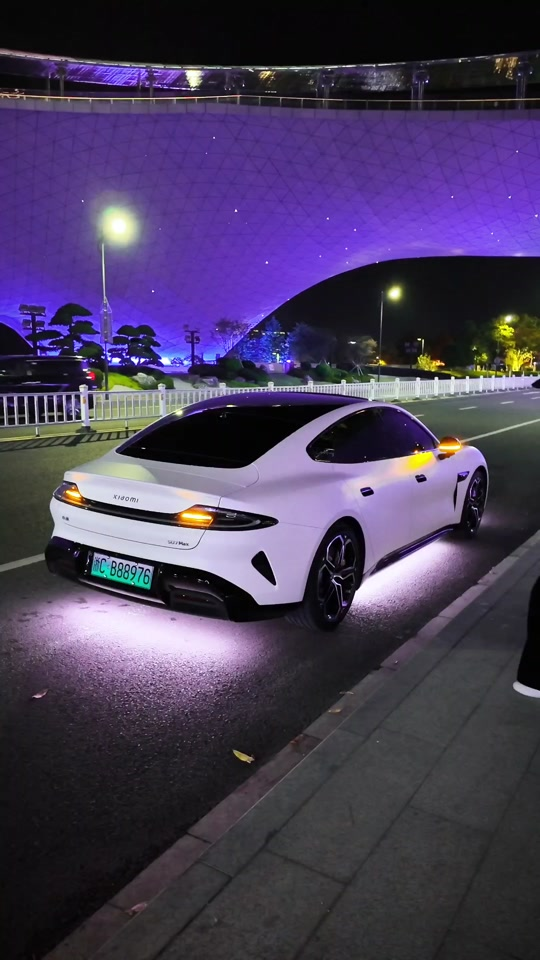su7: (50, 392, 499, 630)
